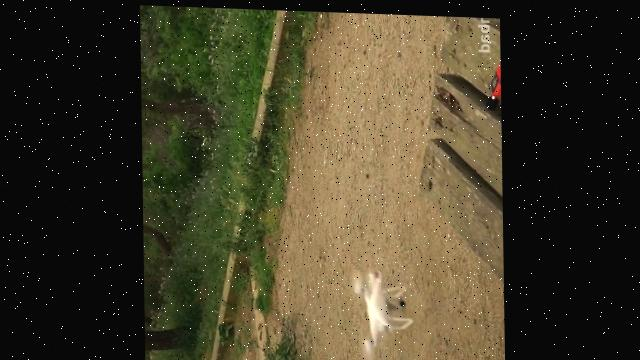drone: (347, 263, 412, 360)
